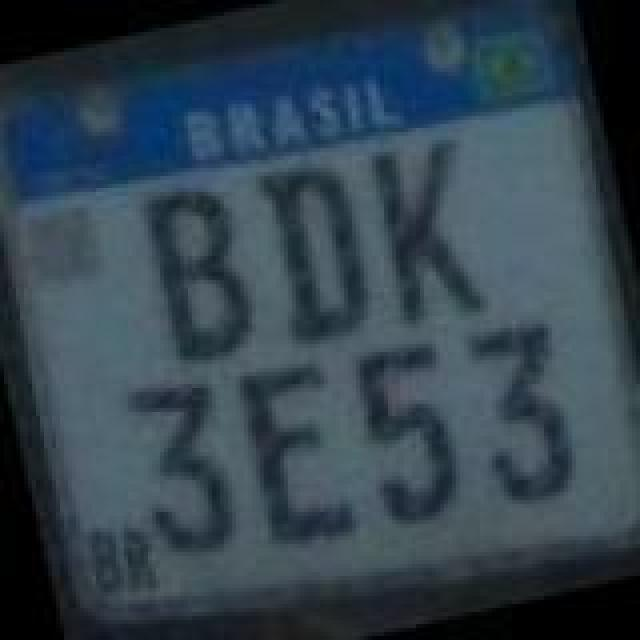3: (456, 314, 592, 518), (118, 370, 250, 574)
5: (342, 332, 474, 532)
B: (134, 178, 266, 374)
D: (248, 154, 384, 358)
E: (228, 354, 364, 558)
K: (364, 130, 500, 334)
